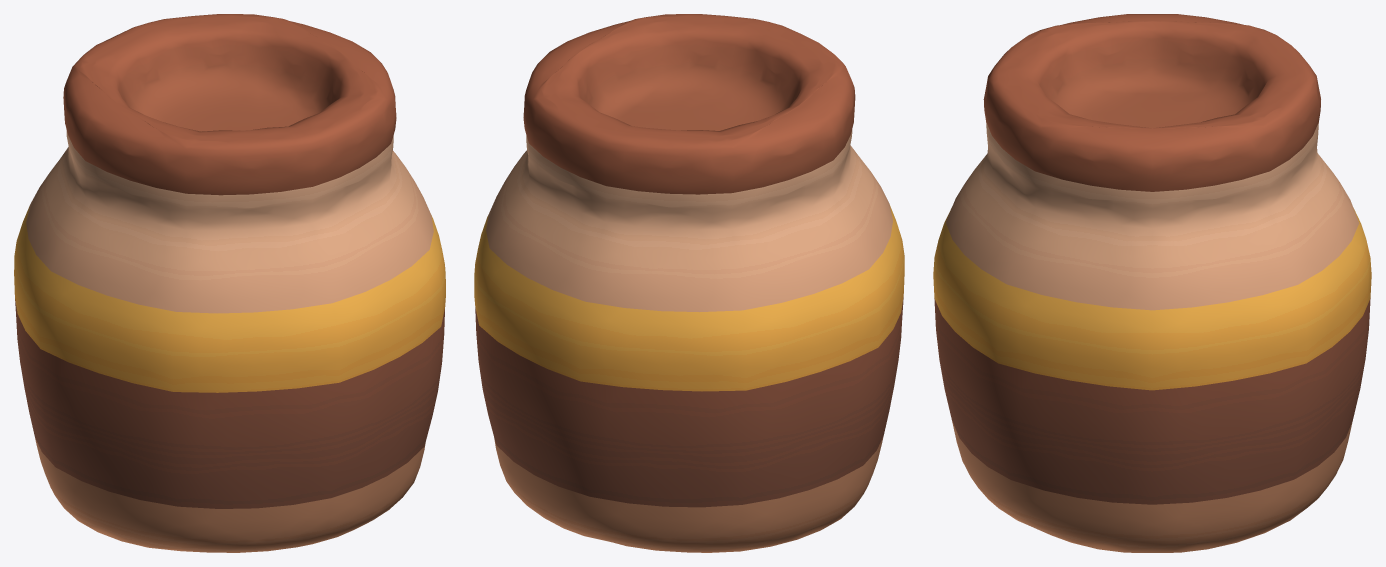
The picture shows the model from 3 angles, left to right: view 1: azimuth 30°, elevation 25°; view 2: azimuth 150°, elevation 25°; view 3: azimuth 270°, elevation 25°; orthographic projection.
Size of the model in its own units: 0.931 by 0.9693 by 0.9306.
1 material, 1 textured.
